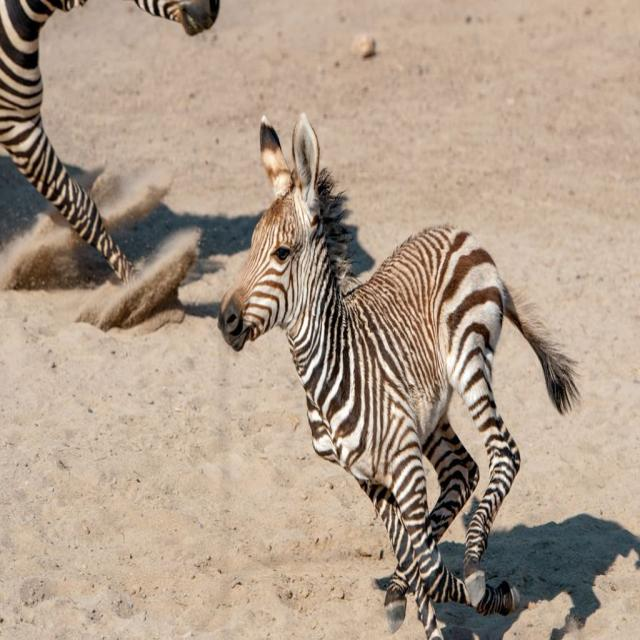Zebra: (213, 124, 533, 610)
